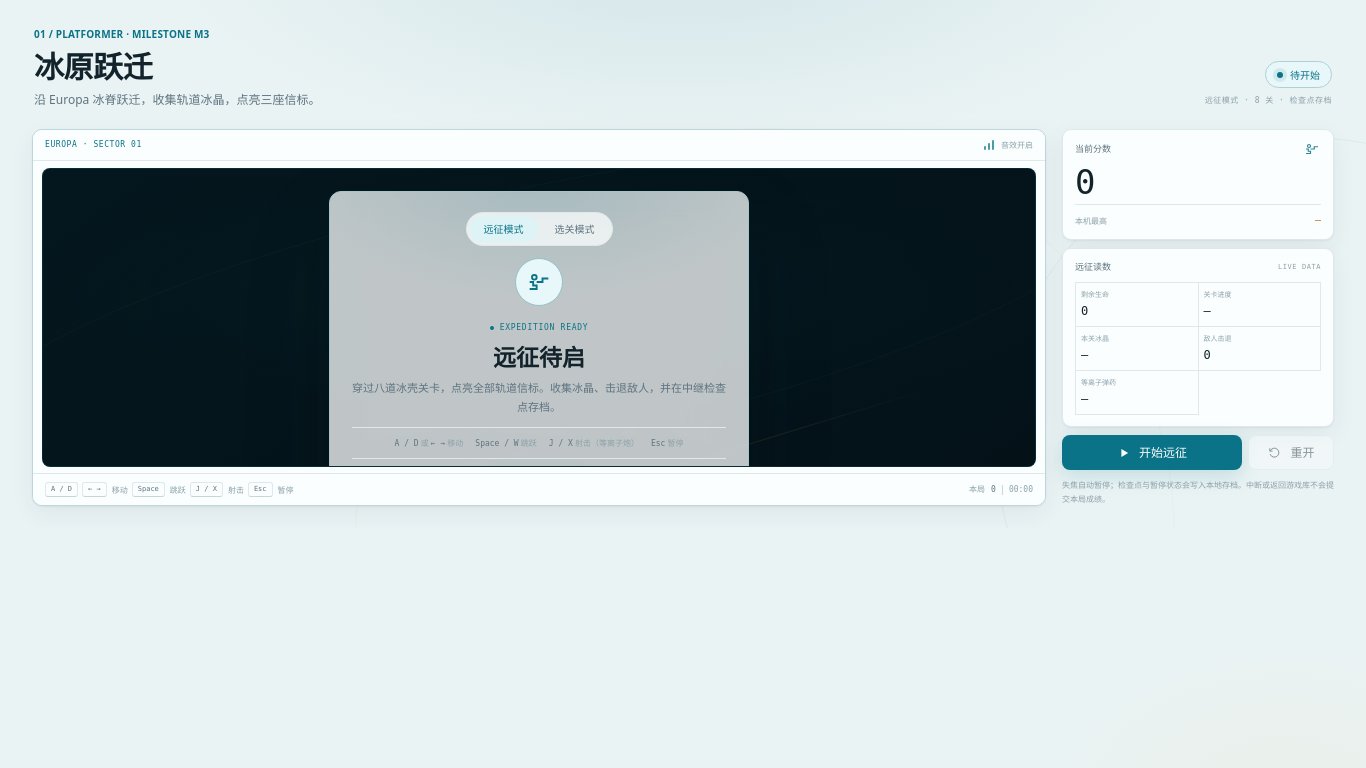
PlatformerGame › starts the chosen select level without writing a checkpoint
Click the tab "选关模式" at {"x": 574, "y": 229}, box [540,216,608,242]
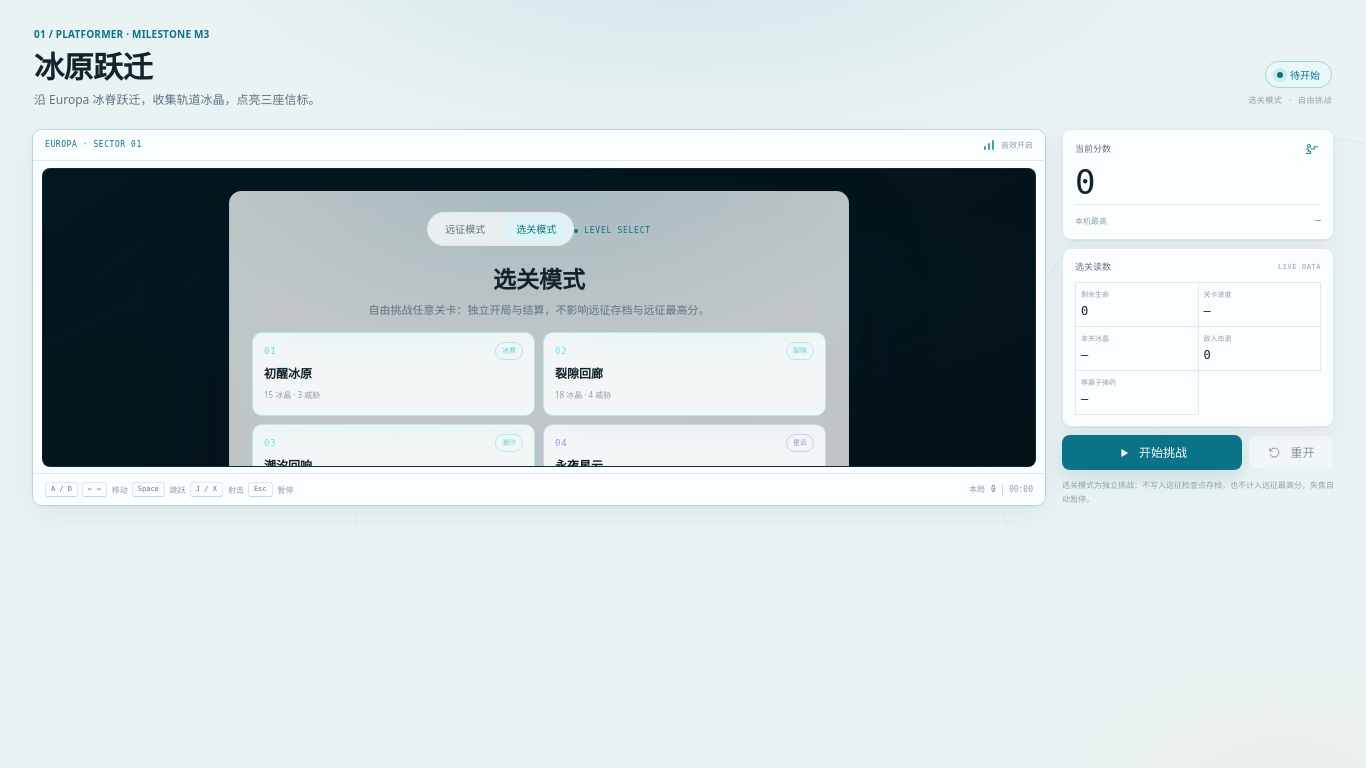
Click the button "04 星云 永夜星云 24 冰晶 · 6 威胁" at {"x": 579, "y": 466}, box [543,424,826,508]
Wait 1200 ms
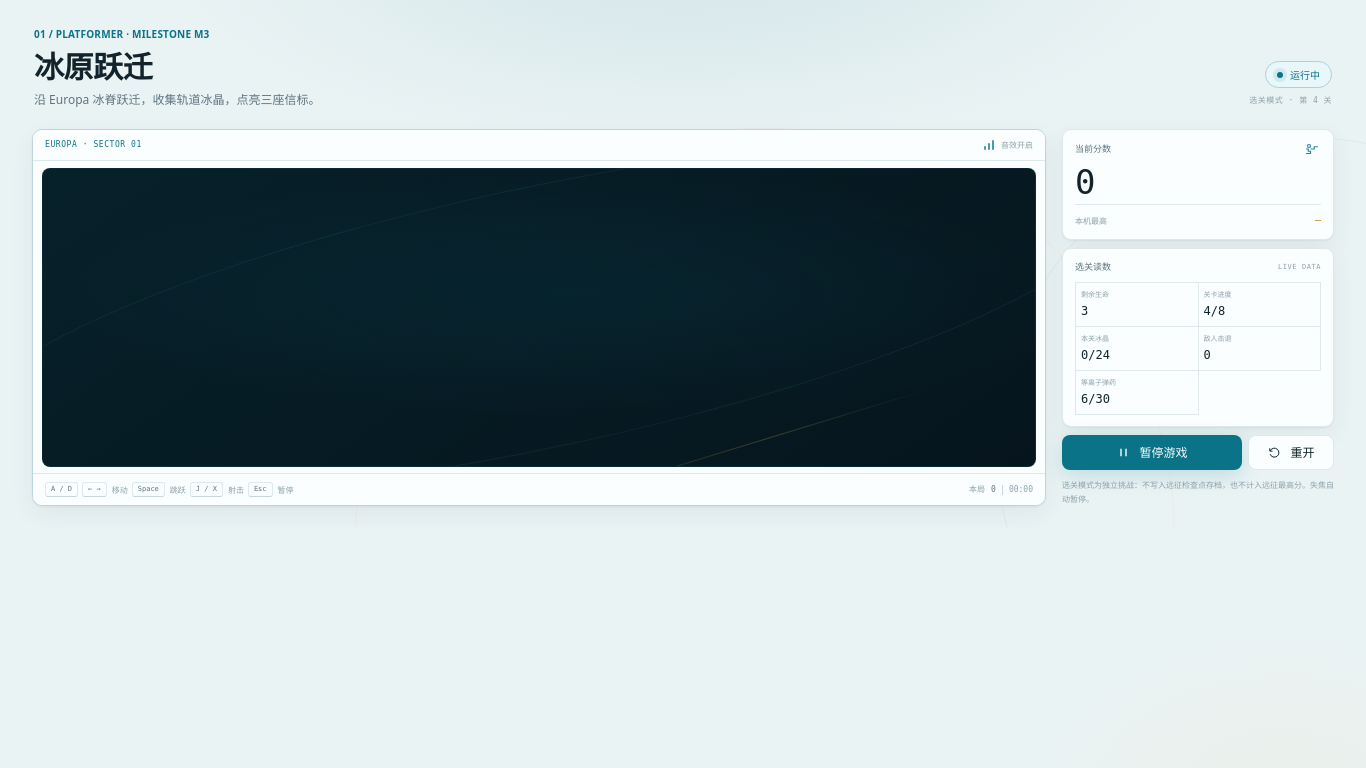
Expected: the text "运行中" is shown, [1265,61,1332,88]
